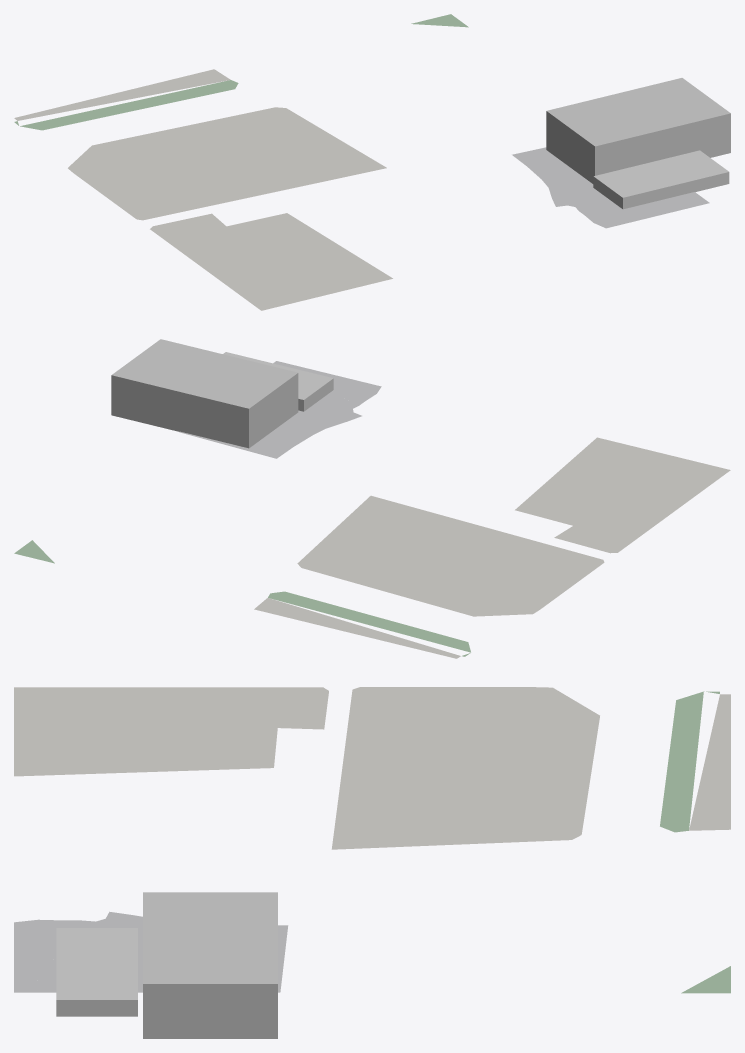
File: 140_110_mid.glb
The picture shows the model from 3 angles, top to bottom: view 1: azimuth 30°, elevation 25°; view 2: azimuth 150°, elevation 25°; view 3: azimuth 270°, elevation 25°; orthographic projection. The views are drawn at different scales.
Size of the model in its own units: 575 by 42.28 by 500.
